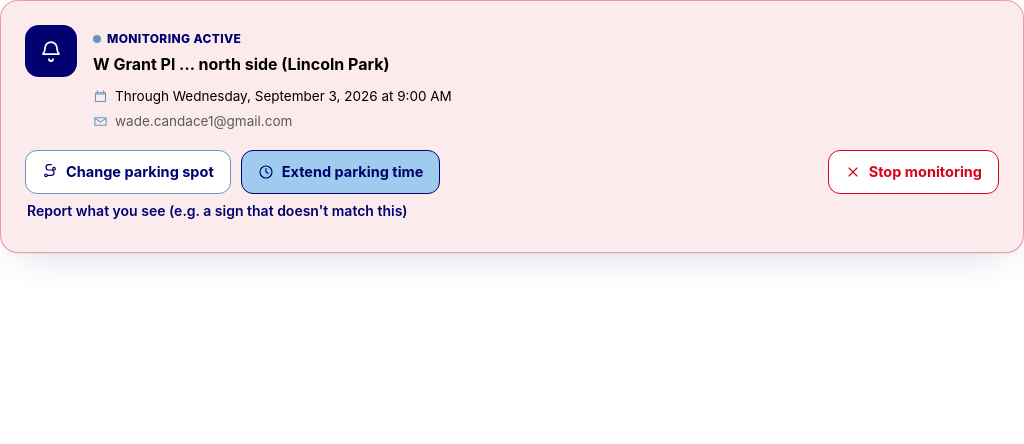
MonitorBanner › clicking Extend opens the panel with the current end prefilled
Click the button "Extend parking time": (341, 172) [241,150,440,194]
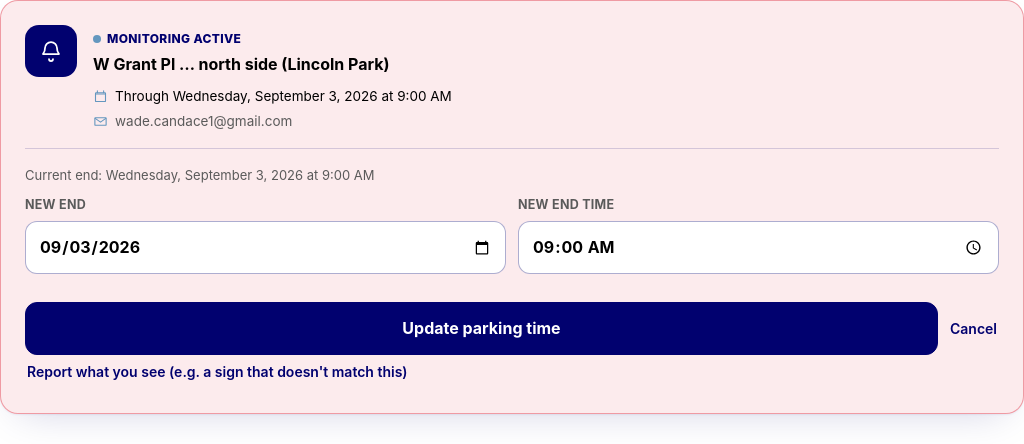
Result: the text "Current end: Wednesday, September 3, 2026 at 9:00 AM" is shown at [25,167,374,183]
Result: the date field labelled "New end" holds "2026-09-03" at [25,221,506,274]
